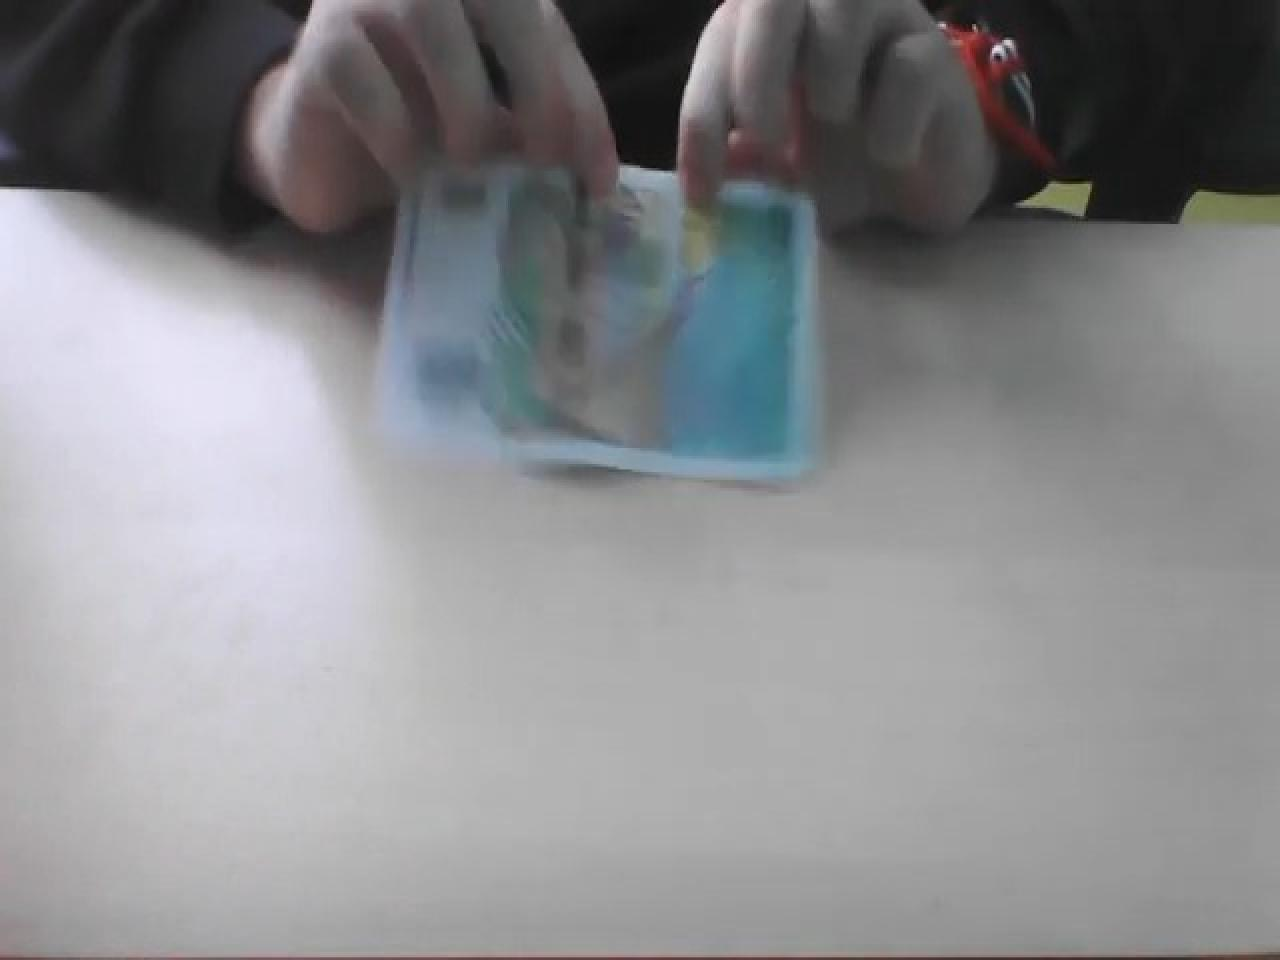100leva: (468, 168, 816, 480)
